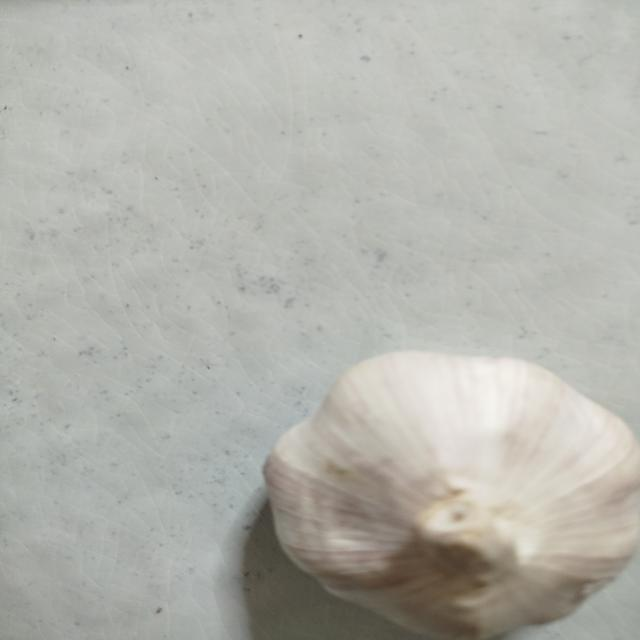garlic: (261, 349, 639, 639)
